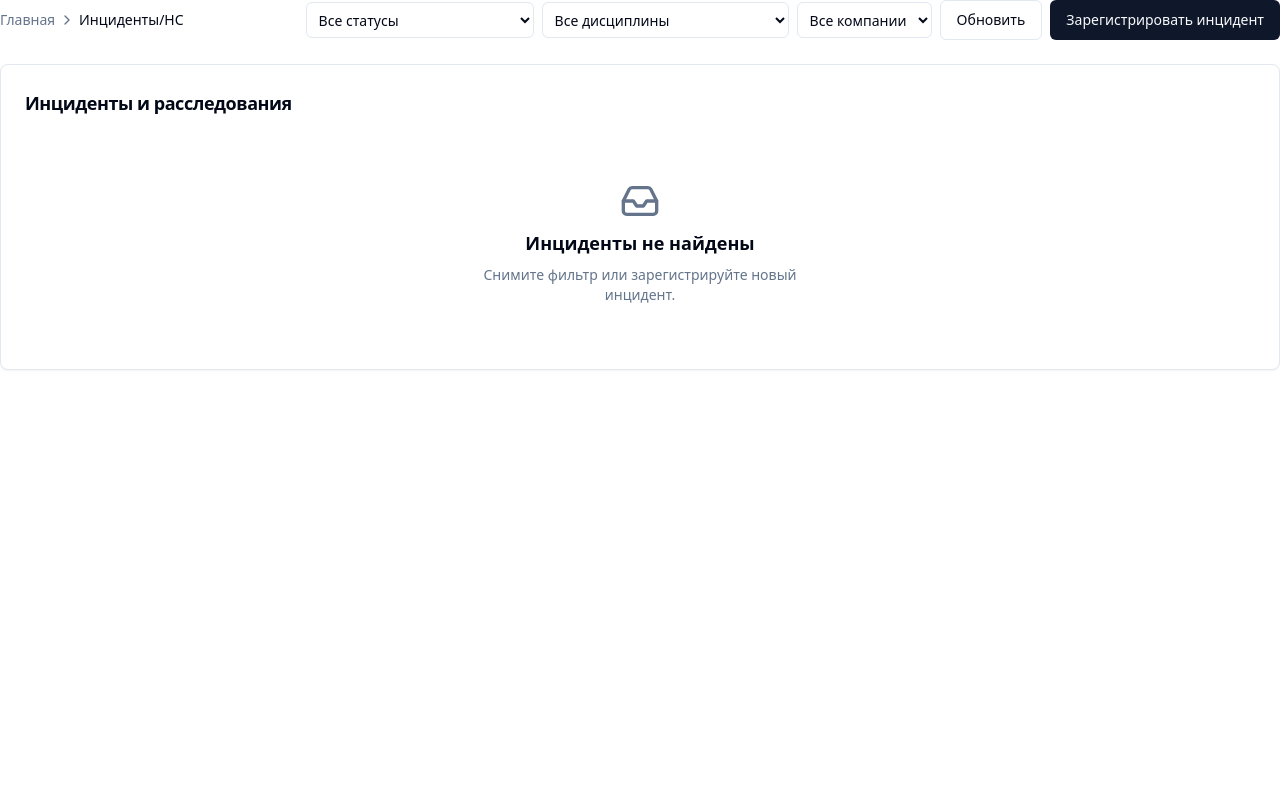
Test: IncidentsPage › opens create dialog when button clicked
The width and height of the screenshot is (1280, 800).
Click the button "Зарегистрировать инцидент".
click(1165, 20)  # box [1050,0,1279,40]
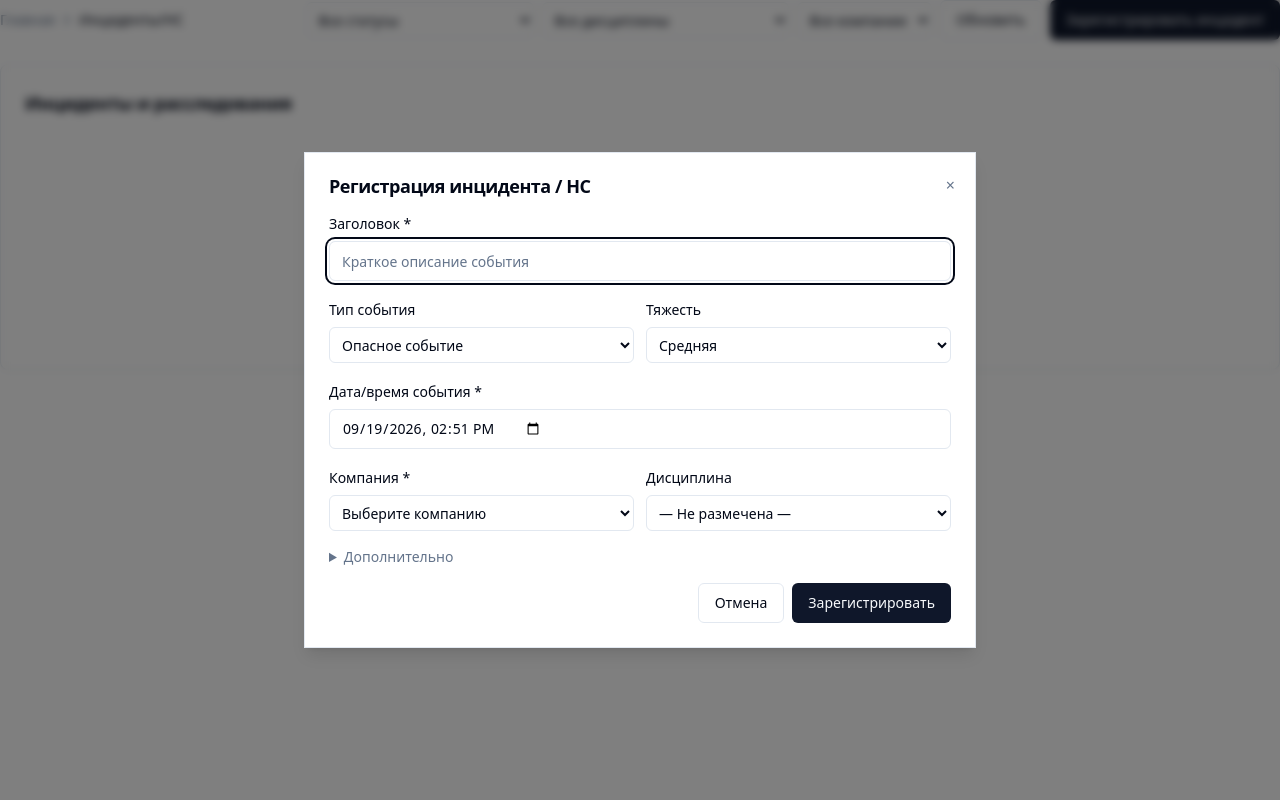
Now the dialog is shown, box [304,152,976,648]
Now the field labelled "Заголовок *" is shown, box [329,241,951,281]
